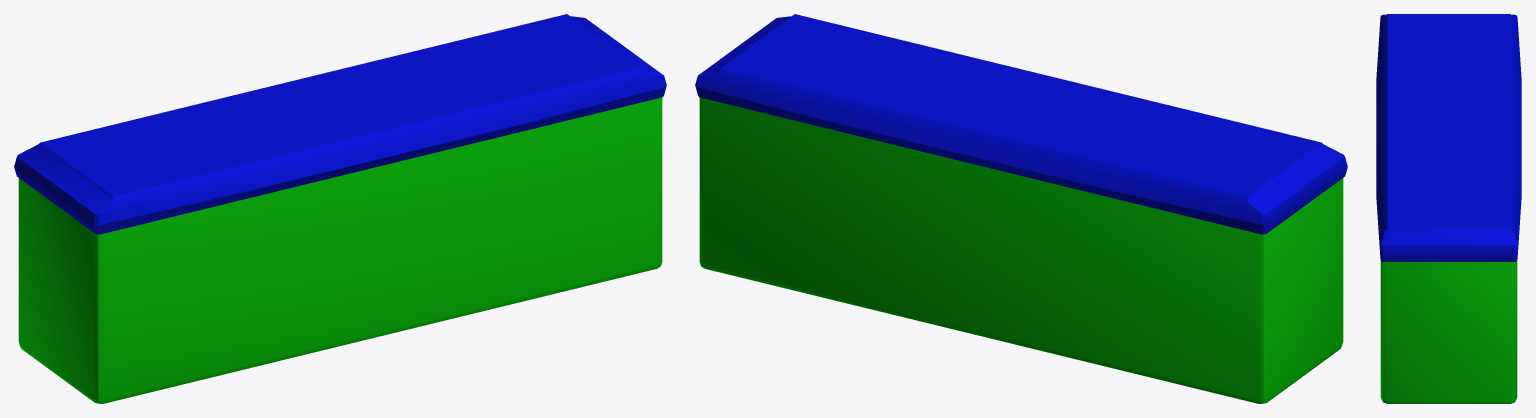
File: Dining_Stool.fbx
The picture shows the model from 3 angles, left to right: view 1: azimuth 30°, elevation 25°; view 2: azimuth 150°, elevation 25°; view 3: azimuth 270°, elevation 25°; orthographic projection. The views are drawn at different scales.
Parts seen in each view (by area): view 1: dining_stool; view 2: dining_stool; view 3: dining_stool.
Boxes of the visible parts, bbox=[...] form: dining_stool: bbox=[14, 14, 666, 403]; dining_stool: bbox=[695, 14, 1347, 403]; dining_stool: bbox=[1376, 14, 1521, 403].
Size of the model in its own units: 202 by 68.65 by 53.21.
